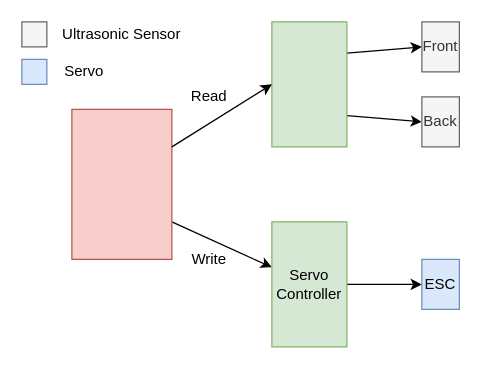
Image size: 481x369. Some labels were removed from this diagram. Each missing label, with the box of its shape:
Distance Sensor Controller: (271, 21, 347, 147)
Vehicle Controller: (71, 108, 172, 259)
